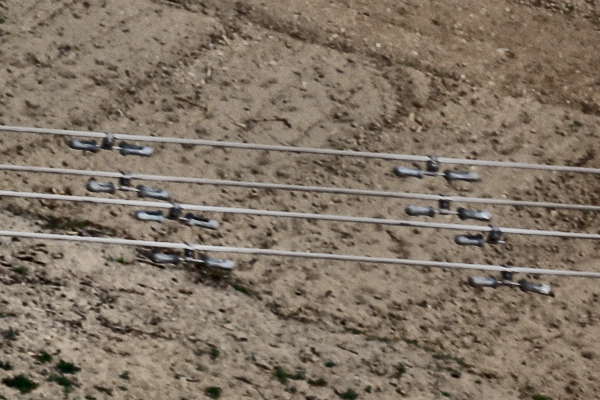damper: (465, 259, 553, 297), (84, 166, 172, 202), (389, 151, 482, 184), (61, 128, 156, 160), (149, 239, 238, 273), (403, 190, 494, 223), (132, 201, 224, 232)
damper_defect: (451, 222, 508, 250)
